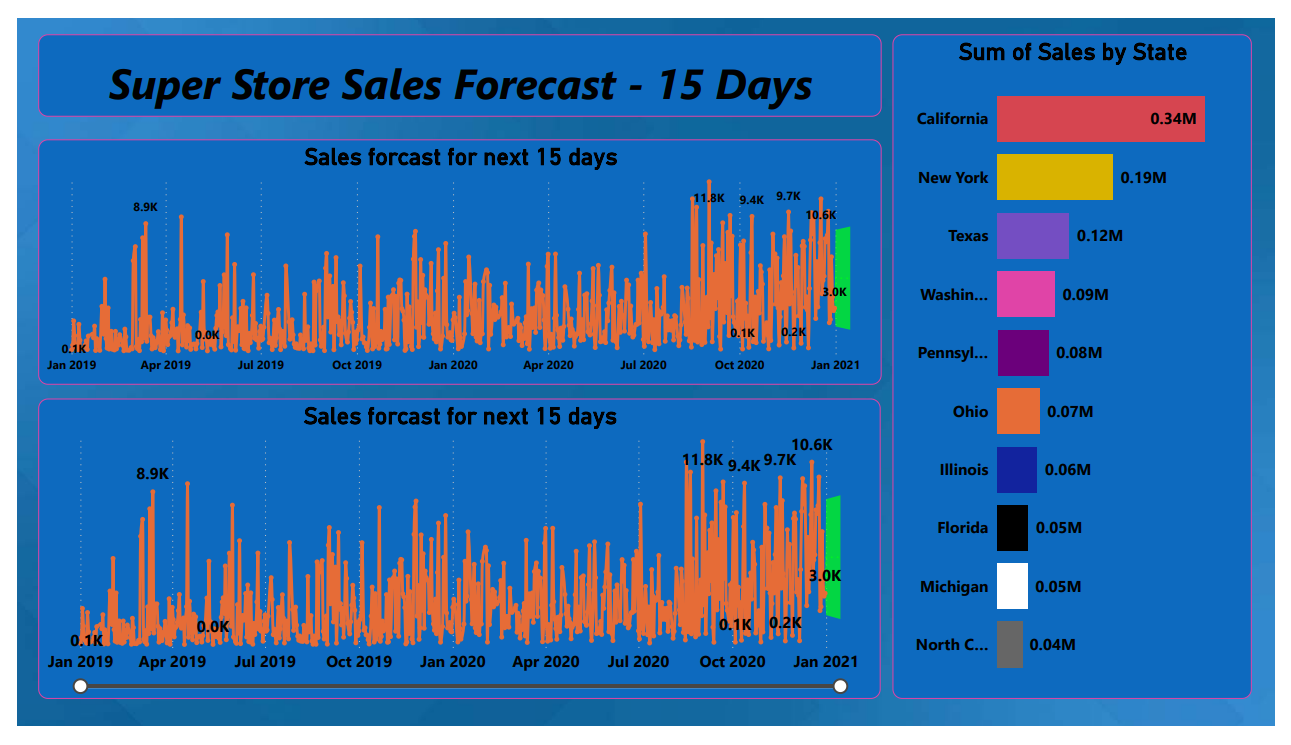

The page's visual inventory and layout, read from the dashboard file:
{"tool":"powerbi","page":{"name":"Sales & Forecast","canvas":[1280,720],"ordinal":1},"visuals":[{"type":"lineChart","title":"Sales forcast for next 15 days","fields":{"Y":["Sum(Sale Forcast.Total Sales)"],"Category":["Sale Forcast.Order Date"]},"box":[21.4,122.9,858.6,250],"z":0},{"type":"textbox","box":[21.4,15.7,858.6,84.3],"z":1000},{"type":"barChart","fields":{"Category":["SuperStore Sales.State"],"Y":["Sum(SuperStore Sales.Sales)"]},"box":[891.4,15.7,365.7,677.1],"z":2000},{"type":"lineChart","title":"Sales forcast for next 15 days","fields":{"Y":["Sum(Sale Forcast.Total Sales)"],"Category":["Sale Forcast.Order Date"]},"box":[21.4,387.1,857.1,305.7],"z":3000}]}

Visuals, with their boxes in screenshot pixels (x1, y1, x2, y2), scaled from the page's 1280x720 canvas onto the 1291x745 screenshot:
"Sales forcast for next 15 days" lineChart: x1=22, y1=127, x2=888, y2=386
textbox: x1=22, y1=16, x2=888, y2=103
barChart - SuperStore Sales.State x Sum(SuperStore Sales.Sales): x1=899, y1=16, x2=1268, y2=717
"Sales forcast for next 15 days" lineChart: x1=22, y1=401, x2=886, y2=717
